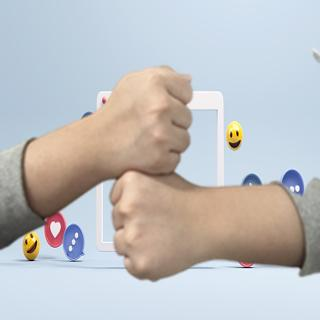CAREFUL: (31, 65, 295, 284)
